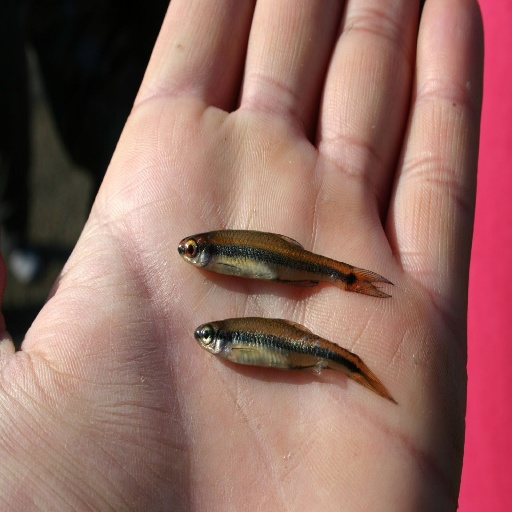hand: (0, 0, 485, 511)
